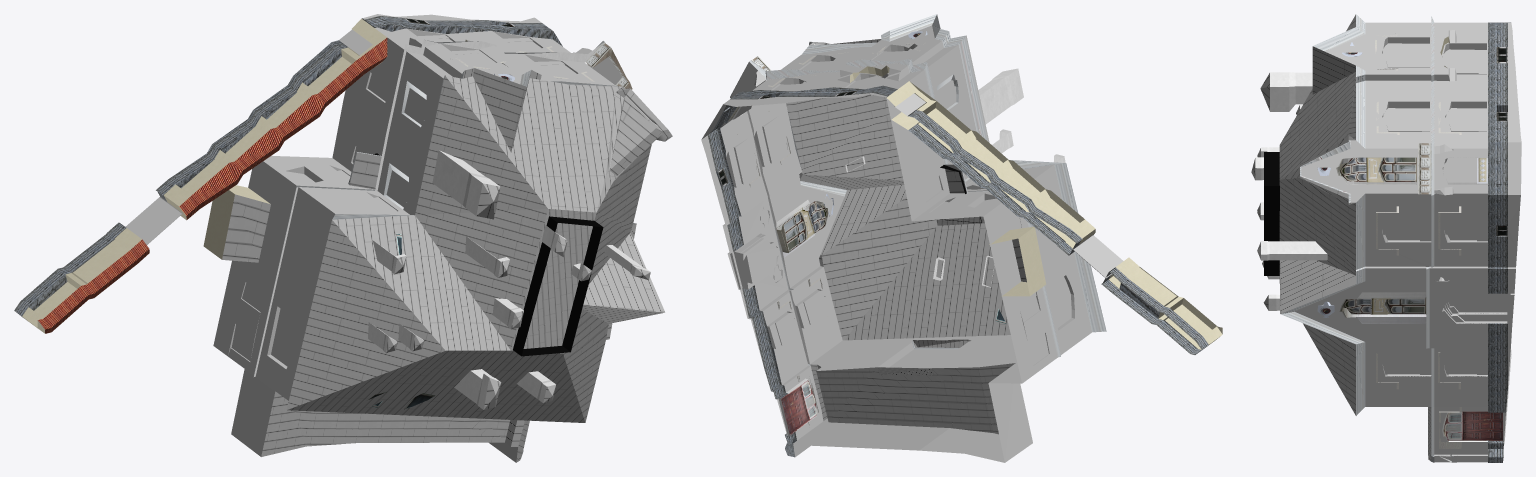
The model's file is Pikk_73-origo.obj.
The picture shows the model from 3 angles, left to right: view 1: azimuth 30°, elevation 25°; view 2: azimuth 150°, elevation 25°; view 3: azimuth 270°, elevation 25°; orthographic projection. The views are drawn at different scales.
Visible parts, largest first — view 1: Pikk_73; view 2: Pikk_73; view 3: Pikk_73.
Boxes of the visible parts, bbox=[...] form: Pikk_73: bbox=[14, 14, 672, 462]; Pikk_73: bbox=[701, 14, 1222, 462]; Pikk_73: bbox=[1251, 14, 1521, 462].
Size of the model in its own units: 38.5 by 28.5 by 17.6.
